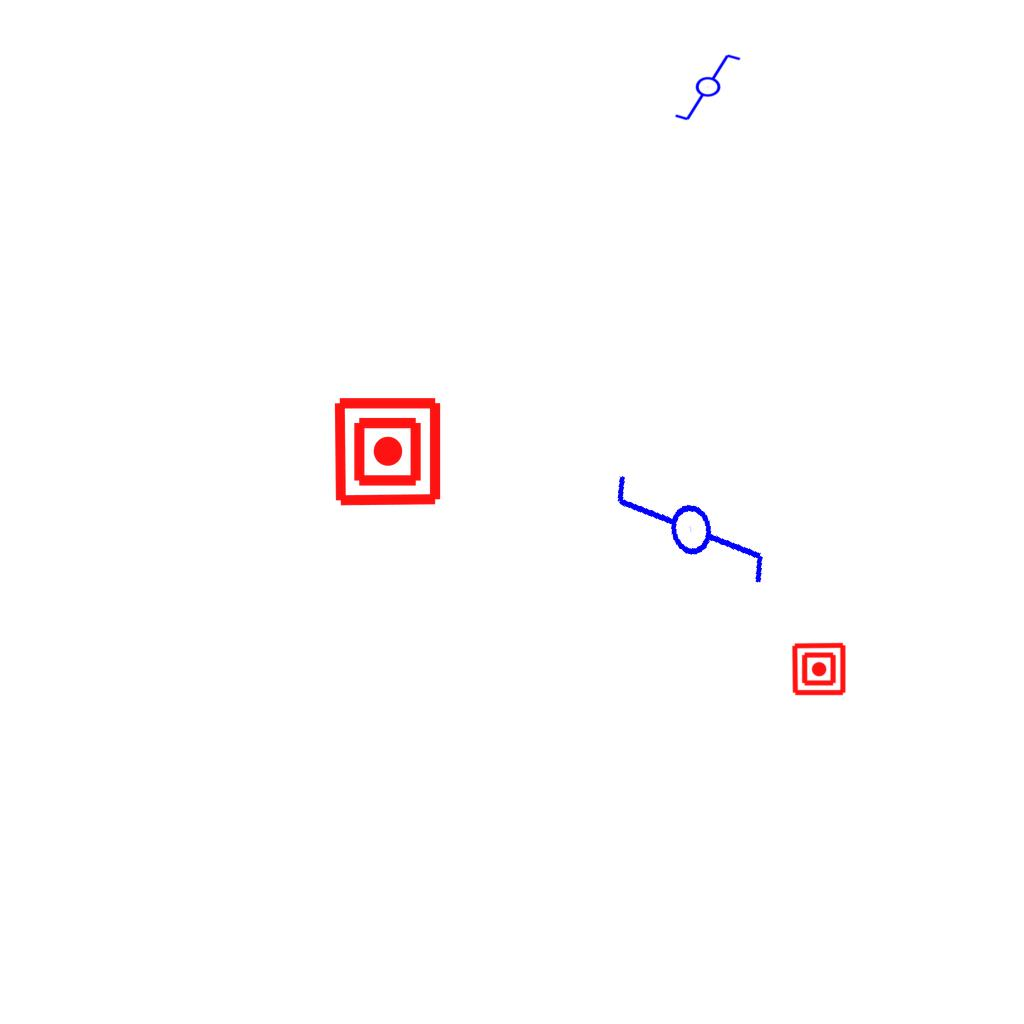NAM-Nichtautomatischer_Melder: (331, 395, 444, 508), (791, 641, 847, 697)
Wechselschalter: (604, 447, 777, 629), (673, 52, 751, 124)
